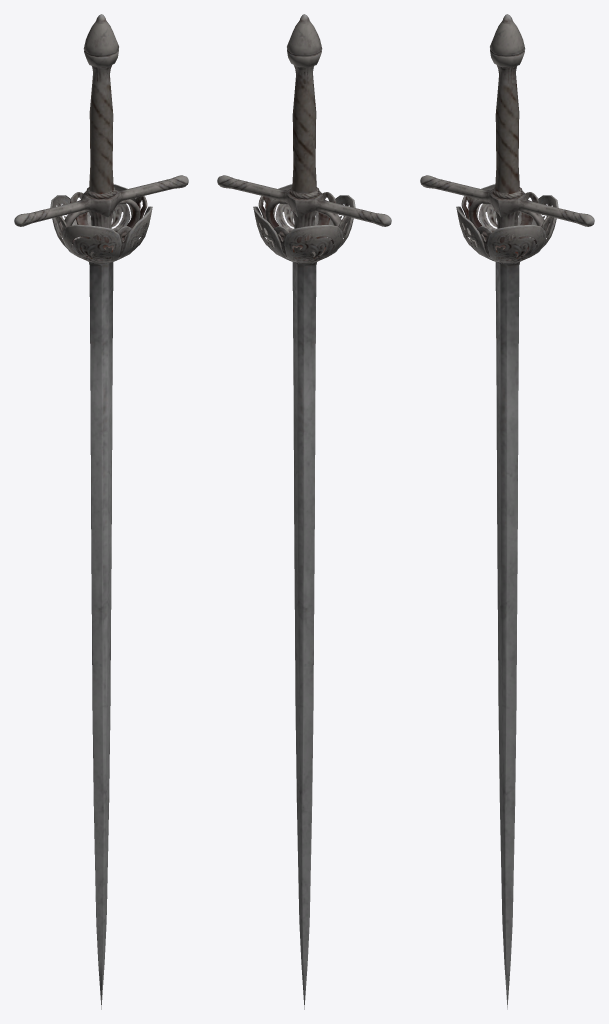
The model's file is weapon-wp_a_0303.glb.
3 views of the same model, side by side, from view 1: azimuth 30°, elevation 25°; view 2: azimuth 150°, elevation 25°; view 3: azimuth 330°, elevation 25° (orthographic).
Parts seen in each view (by area): view 1: wp_a_0303_mesh; view 2: wp_a_0303_mesh; view 3: wp_a_0303_mesh.
Part boxes in pixels (box(x1,y1,x2,y2)): wp_a_0303_mesh: box(14, 14, 188, 1009); wp_a_0303_mesh: box(217, 14, 391, 1009); wp_a_0303_mesh: box(420, 14, 594, 1009).
Bounding box in the file's own units: 0.3515 × 1.92 × 0.1681.
Materials: 2 (2 with a texture image).
